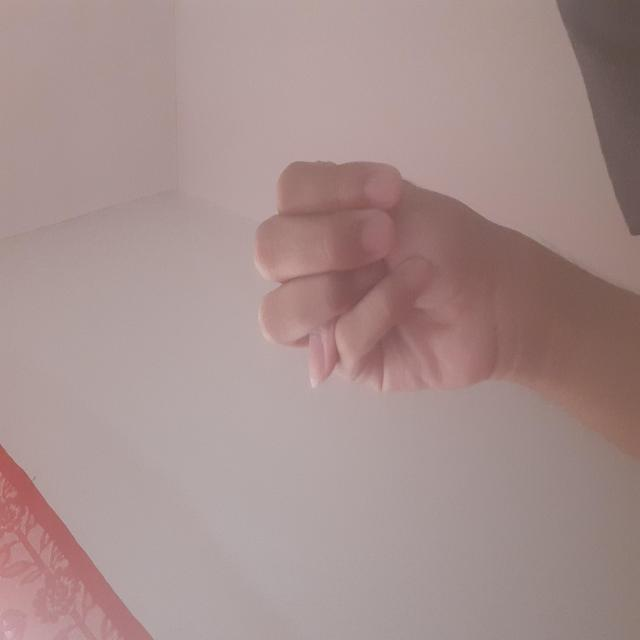M: (237, 136, 518, 454)
